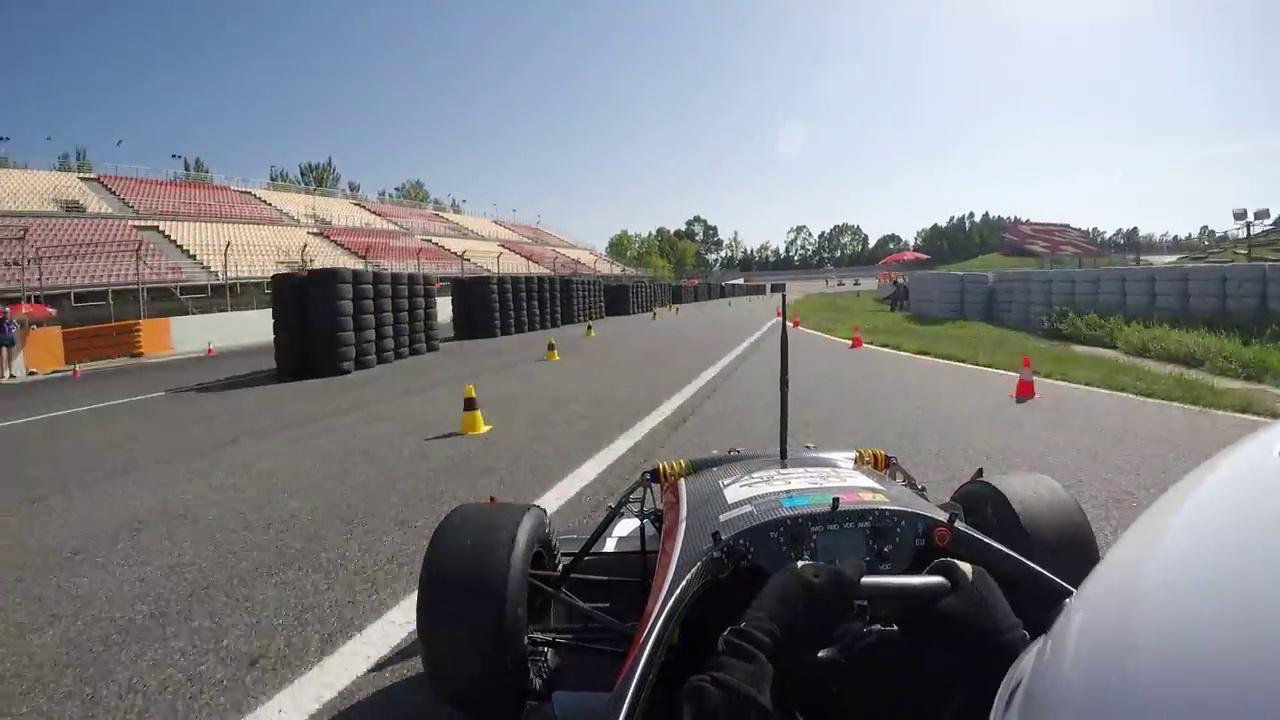Cone: (457, 382, 493, 436), (1012, 356, 1038, 402)
